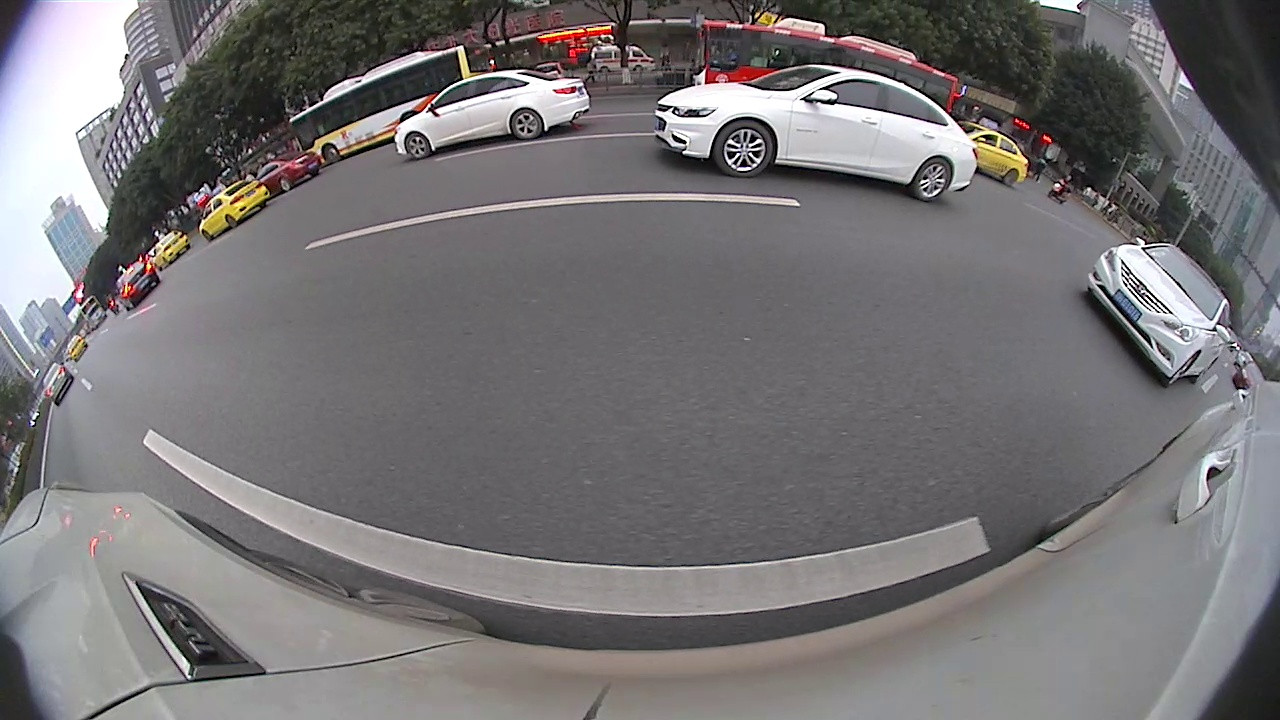bus: (693, 16, 959, 129), (288, 44, 495, 166)
car: (652, 63, 979, 202), (1086, 237, 1230, 389), (393, 72, 592, 160), (956, 118, 1030, 189), (199, 178, 272, 243), (258, 148, 324, 192), (114, 259, 161, 313), (39, 359, 76, 405), (153, 230, 191, 270)
front: (710, 121, 774, 175), (404, 133, 429, 158), (323, 145, 338, 162)
rear: (914, 159, 952, 203), (509, 110, 544, 140), (1006, 169, 1018, 186), (281, 179, 291, 191)
rider: (1046, 175, 1076, 205)
